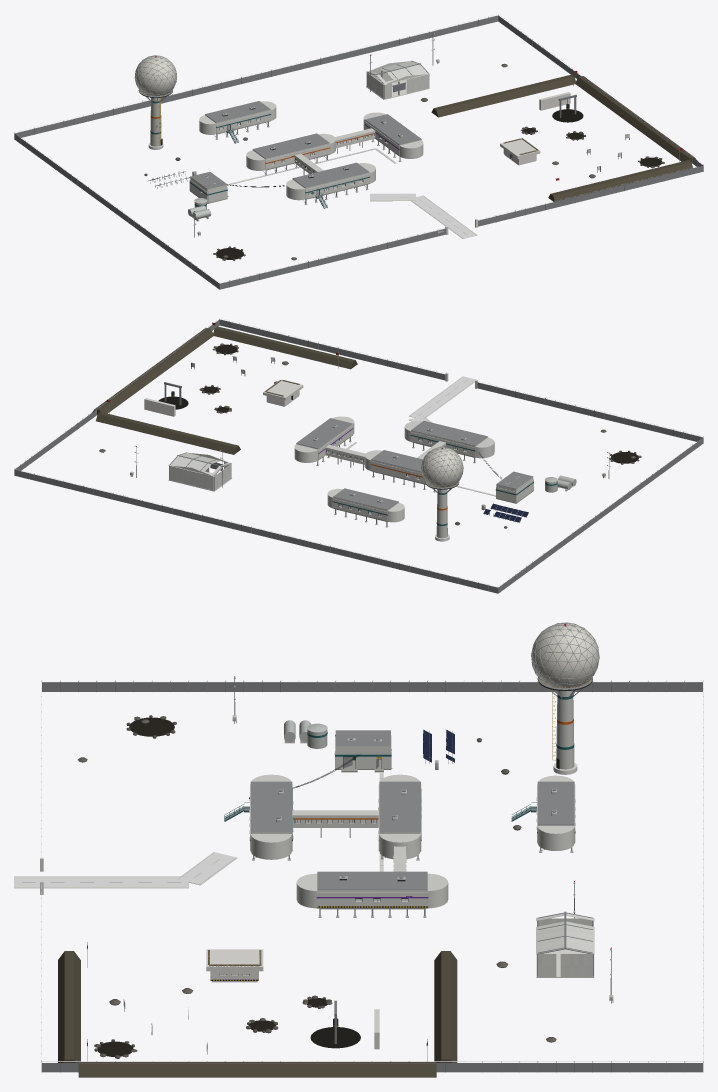
Rendered from research-outpost.glb.
The picture shows the model from 3 angles, top to bottom: view 1: azimuth 30°, elevation 25°; view 2: azimuth 150°, elevation 25°; view 3: azimuth 270°, elevation 25°; orthographic projection. The views are drawn at different scales.
Parts seen in each view (by area): view 1: C-1_0_lod0, C0_1_lod0, C1_-2_lod0, C0_0_lod0, C-1_-1_lod0, C-2_0_lod0, C1_0_lod0, C-2_-2_lod0, C2_-1_lod0, C1_-1_lod0, C-2_-1_lod0, C-3_0_lod0 (+3 smaller); view 2: C0_1_lod0, C-1_0_lod0, C1_-2_lod0, C-2_0_lod0, C0_0_lod0, C-1_-1_lod0, C1_0_lod0, C2_-1_lod0, C-2_-2_lod0, C-3_0_lod0, C1_-1_lod0, C-2_-1_lod0 (+3 smaller); view 3: C-1_0_lod0, C0_0_lod0, C-2_0_lod0, C-1_-1_lod0, C-3_0_lod0, C2_-1_lod0, C1_0_lod0, C2_0_lod0, C-2_-1_lod0, C1_-1_lod0, C1_-2_lod0, C0_-2_lod0 (+1 smaller).
Boxes of the visible parts, x1=… form: C-1_0_lod0: x1=199, y1=101, x2=375, y2=182; C0_1_lod0: x1=15, y1=14, x2=498, y2=137; C1_-2_lod0: x1=478, y1=148, x2=703, y2=226; C0_0_lod0: x1=352, y1=54, x2=682, y2=180; C-1_-1_lod0: x1=227, y1=154, x2=416, y2=208; C-2_0_lod0: x1=134, y1=55, x2=238, y2=197; C1_0_lod0: x1=409, y1=60, x2=575, y2=117; C-2_-2_lod0: x1=216, y1=228, x2=445, y2=289; C2_-1_lod0: x1=575, y1=76, x2=696, y2=162; C1_-1_lod0: x1=500, y1=94, x2=629, y2=165; C-2_-1_lod0: x1=188, y1=172, x2=243, y2=259; C-3_0_lod0: x1=14, y1=133, x2=219, y2=289; C0_1_lod0: x1=14, y1=466, x2=498, y2=593; C-1_0_lod0: x1=325, y1=444, x2=473, y2=527; C1_-2_lod0: x1=212, y1=318, x2=445, y2=380; C-2_0_lod0: x1=421, y1=447, x2=528, y2=541; C0_0_lod0: x1=107, y1=322, x2=352, y2=491; C-1_-1_lod0: x1=404, y1=416, x2=501, y2=479; C1_0_lod0: x1=96, y1=398, x2=240, y2=466; C2_-1_lod0: x1=92, y1=328, x2=213, y2=414; C-2_-2_lod0: x1=477, y1=382, x2=702, y2=461; C-3_0_lod0: x1=498, y1=437, x2=703, y2=593; C1_-1_lod0: x1=158, y1=356, x2=303, y2=413; C-2_-1_lod0: x1=495, y1=452, x2=638, y2=503; C-1_0_lod0: x1=371, y1=774, x2=575, y2=871; C0_0_lod0: x1=87, y1=869, x2=594, y2=1045; C-2_0_lod0: x1=374, y1=622, x2=598, y2=781; C-1_-1_lod0: x1=177, y1=754, x2=378, y2=885; C-3_0_lod0: x1=42, y1=680, x2=702, y2=691; C2_-1_lod0: x1=78, y1=1061, x2=436, y2=1077; C1_0_lod0: x1=374, y1=945, x2=594, y2=1062; C2_0_lod0: x1=42, y1=1061, x2=702, y2=1072; C-2_-1_lod0: x1=129, y1=676, x2=391, y2=772; C1_-1_lod0: x1=151, y1=949, x2=360, y2=1054; C1_-2_lod0: x1=41, y1=884, x2=137, y2=1062; C0_-2_lod0: x1=14, y1=876, x2=188, y2=967.
Size of what is drawn, in the model's own units: 199 by 35.41 by 150.
